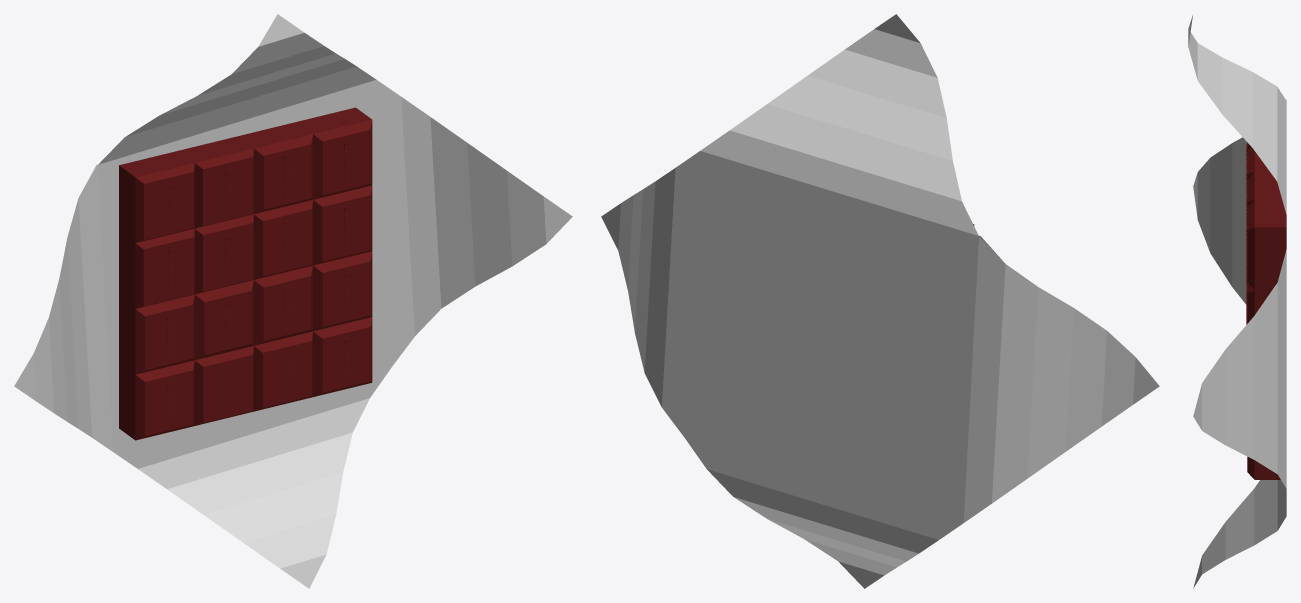
3 views of the same model, side by side, from view 1: azimuth 30°, elevation 25°; view 2: azimuth 150°, elevation 25°; view 3: azimuth 270°, elevation 25° (orthographic). The views are drawn at different scales.
Parts seen in each view (by area): view 1: cadburys chocolate bar; view 2: cadburys chocolate bar; view 3: cadburys chocolate bar.
Boxes of the visible parts, x1=… form: cadburys chocolate bar: x1=14, y1=14, x2=572, y2=588; cadburys chocolate bar: x1=601, y1=14, x2=1159, y2=588; cadburys chocolate bar: x1=1188, y1=15, x2=1286, y2=588.
Bounding box in the file's own units: 2037 × 2030 × 322.
